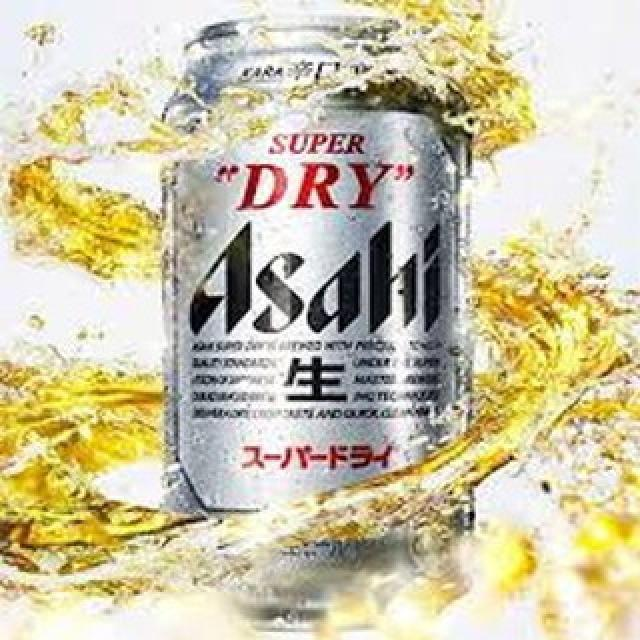metal-can: (156, 17, 478, 634)
